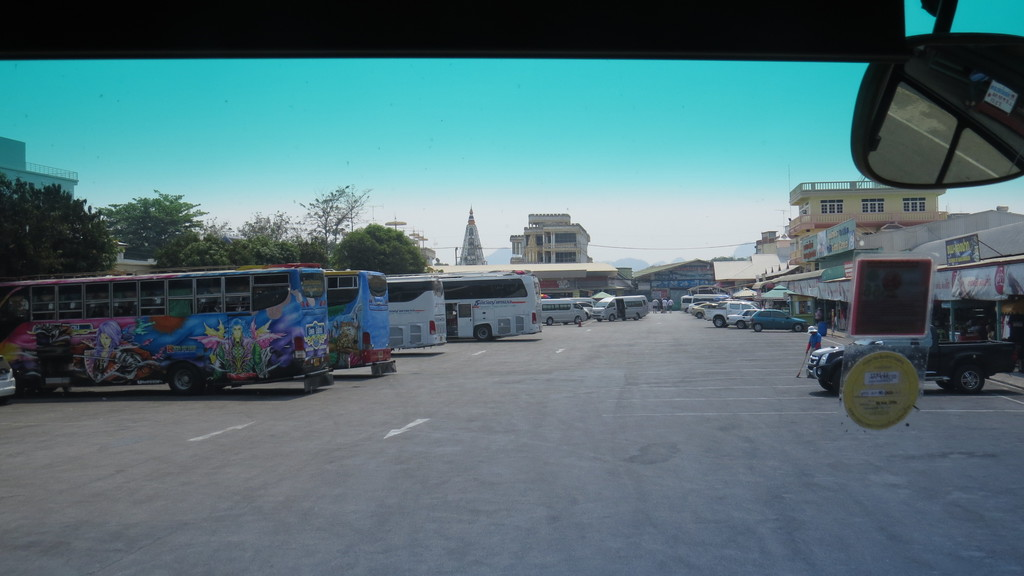Bus: (0, 264, 328, 396), (239, 263, 386, 368), (429, 273, 542, 341), (387, 274, 444, 349)
